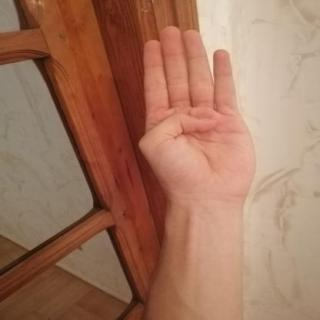KAAF: (120, 17, 272, 211)
